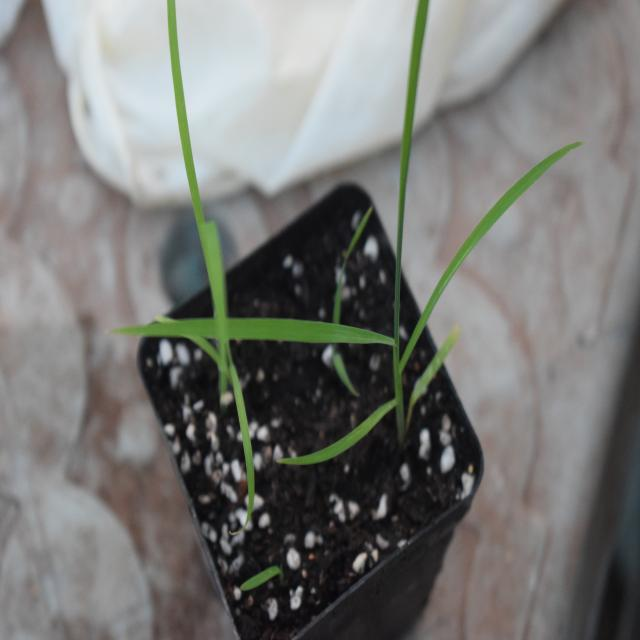barnyard_grass: (130, 11, 574, 448)
